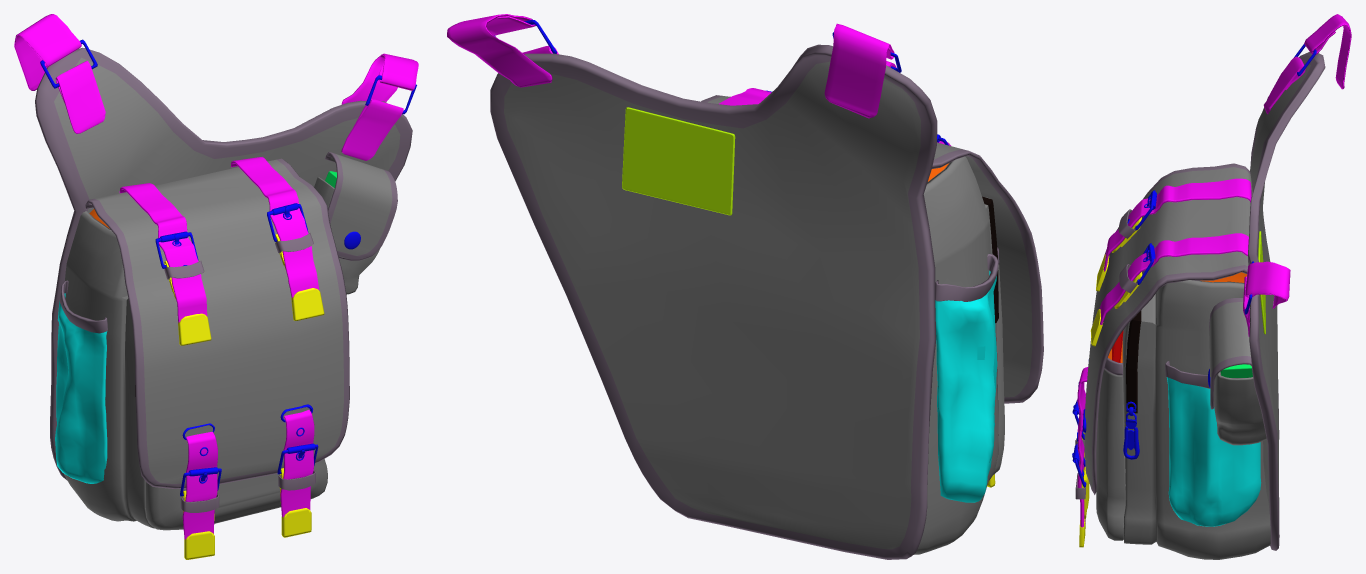
The picture shows the model from 3 angles, left to right: view 1: azimuth 30°, elevation 25°; view 2: azimuth 150°, elevation 25°; view 3: azimuth 270°, elevation 25°; orthographic projection. The views are drawn at different scales.
Visible parts, largest first — view 1: g CanvasBag MainBagForm FrontCover (×2), g CanvasBag Back MainBagForm (×2), g CanvasBag MainBagForm MainBag, g CanvasBag MeshPockets BotLMesh, g CanvasBag PCover RightPouch (×2), g CanvasBag MainBagForm FrontPocket, g CanvasBag TopLStrap Straps TopLStrap, g CanvasBag Straps TopLStrap TopRStrap, g CanvasBag Straps LCStrap CarryStrap LCTopLeather, g CanvasBag Straps BottomLStrap BotLStrap, g CanvasBag Straps BottomRStrap BotRStrap, g CanvasBag Straps CarryStrap RCStrap RCBotLeather1 (+8 smaller); view 2: g CanvasBag Back MainBagForm (×2), g CanvasBag MeshPockets BotLMesh, g CanvasBag MainBagForm MainBag, g CanvasBag MainBagForm FrontCover (×2), g CanvasBag BackPatch, g CanvasBag Straps LCStrap CarryStrap LCTopLeather, g CanvasBag Straps CarryStrap RCStrap RCTopLeather, g CanvasBag MainBagForm FrontPocket, g CanvasBag TopLMesh MeshPockets; view 3: g CanvasBag MainBagForm MainBag (×2), g CanvasBag MainBagForm FrontCover (×2), g CanvasBag MeshPockets BotRMesh, g CanvasBag Back MainBagForm (×2), g CanvasBag MainBagForm FrontPocket, g CanvasBag RightPouch PMain, g CanvasBag PCover RightPouch (×2), g CanvasBag Straps TopLStrap TopRStrap, g CanvasBag TopLStrap Straps TopLStrap, g CanvasBag Straps CarryStrap RCStrap RCTopLeather, g CanvasBag Straps LCStrap CarryStrap LCTopLeather, g CanvasBag Straps CarryStrap RCStrap RCBotLeather1 (+5 smaller).
Part boxes in pixels (x1,y1,x2,y2): g CanvasBag MainBagForm FrontCover (×2): (85, 158, 349, 488); g CanvasBag Back MainBagForm (×2): (35, 47, 412, 480); g CanvasBag MainBagForm MainBag: (64, 211, 154, 528); g CanvasBag MeshPockets BotLMesh: (55, 293, 107, 483); g CanvasBag PCover RightPouch (×2): (325, 152, 397, 260); g CanvasBag MainBagForm FrontPocket: (145, 459, 327, 530); g CanvasBag TopLStrap Straps TopLStrap: (119, 183, 207, 323); g CanvasBag Straps TopLStrap TopRStrap: (231, 157, 319, 298); g CanvasBag Straps LCStrap CarryStrap LCTopLeather: (14, 14, 81, 90); g CanvasBag Straps BottomLStrap BotLStrap: (182, 431, 217, 539); g CanvasBag Straps BottomRStrap BotRStrap: (280, 410, 314, 517); g CanvasBag Straps CarryStrap RCStrap RCBotLeather1: (55, 60, 105, 133); g CanvasBag Back MainBagForm (×2): (490, 44, 937, 559); g CanvasBag MeshPockets BotLMesh: (935, 270, 997, 502); g CanvasBag MainBagForm MainBag: (914, 156, 998, 554); g CanvasBag MainBagForm FrontCover (×2): (701, 95, 1043, 403); g CanvasBag BackPatch: (622, 107, 735, 215); g CanvasBag Straps LCStrap CarryStrap LCTopLeather: (824, 23, 894, 118); g CanvasBag Straps CarryStrap RCStrap RCTopLeather: (447, 14, 552, 87); g CanvasBag MainBagForm FrontPocket: (992, 264, 1004, 475); g CanvasBag TopLMesh MeshPockets: (935, 254, 998, 301); g CanvasBag MainBagForm MainBag (×2): (1122, 280, 1270, 559); g CanvasBag MainBagForm FrontCover (×2): (1084, 163, 1252, 494); g CanvasBag MeshPockets BotRMesh: (1166, 377, 1261, 526); g CanvasBag Back MainBagForm (×2): (1248, 52, 1325, 550); g CanvasBag MainBagForm FrontPocket: (1096, 369, 1125, 540); g CanvasBag RightPouch PMain: (1213, 372, 1266, 445); g CanvasBag PCover RightPouch (×2): (1209, 298, 1251, 409); g CanvasBag Straps TopLStrap TopRStrap: (1099, 233, 1248, 324); g CanvasBag TopLStrap Straps TopLStrap: (1103, 178, 1251, 271); g CanvasBag Straps CarryStrap RCStrap RCTopLeather: (1245, 261, 1290, 308); g CanvasBag Straps LCStrap CarryStrap LCTopLeather: (1304, 14, 1351, 89); g CanvasBag Straps CarryStrap RCStrap RCBotLeather1: (1263, 56, 1305, 114).
Bounding box in the file's own units: 1.81 × 2 × 1.1.
